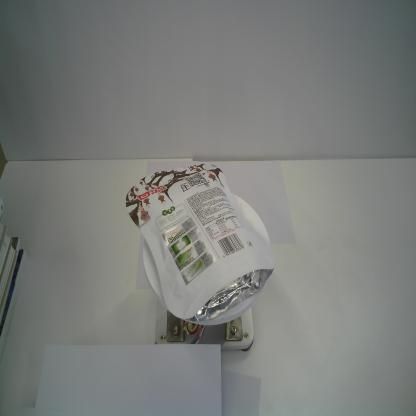Dried Fruit: (125, 162, 275, 326)
